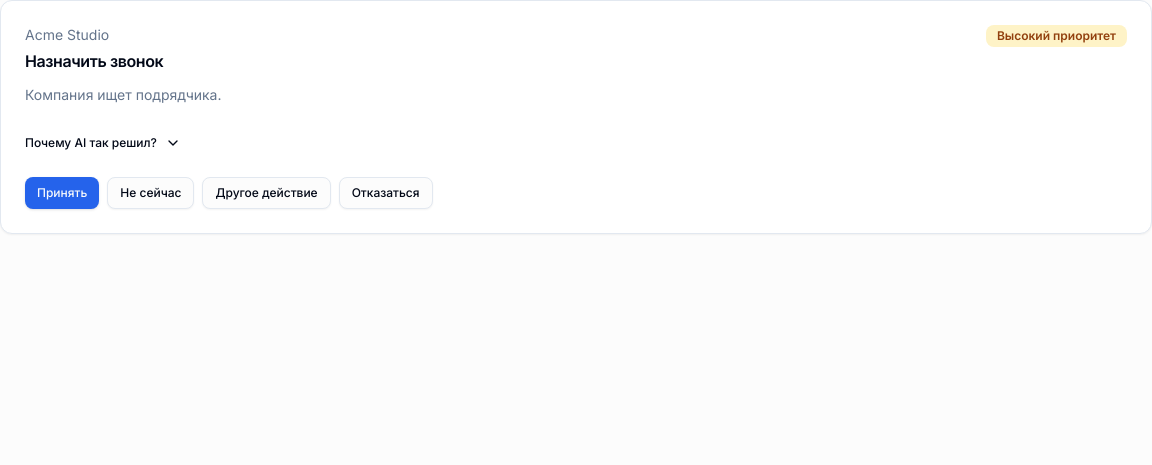
Test: NeedsDecisionCard › opens mutually exclusive action panels
Click the button "Не сейчас" at {"x": 151, "y": 193}, box [107,177,194,209]
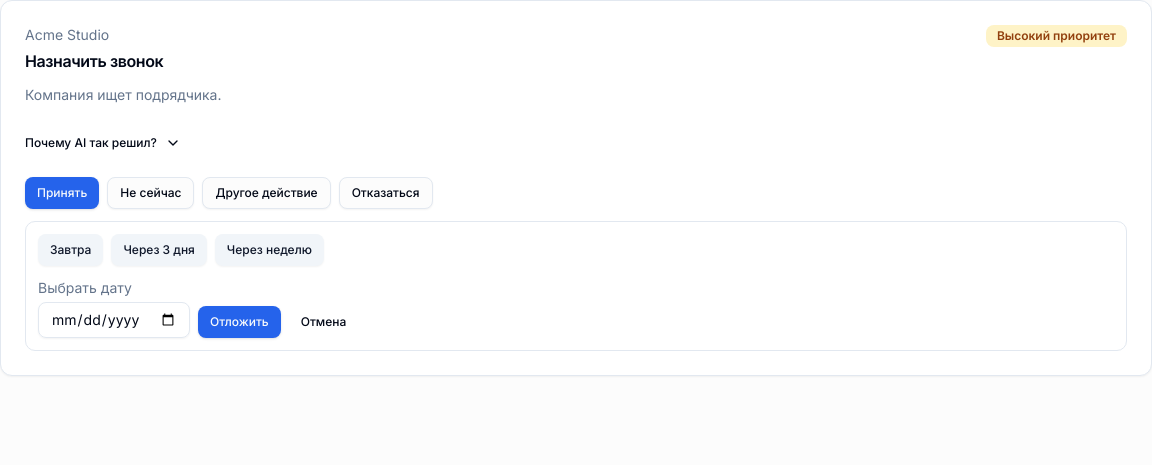
Expected: the button "Завтра" is shown, [38,234,103,266]
Click the button "Другое действие" at {"x": 267, "y": 193}, box [202,177,331,209]
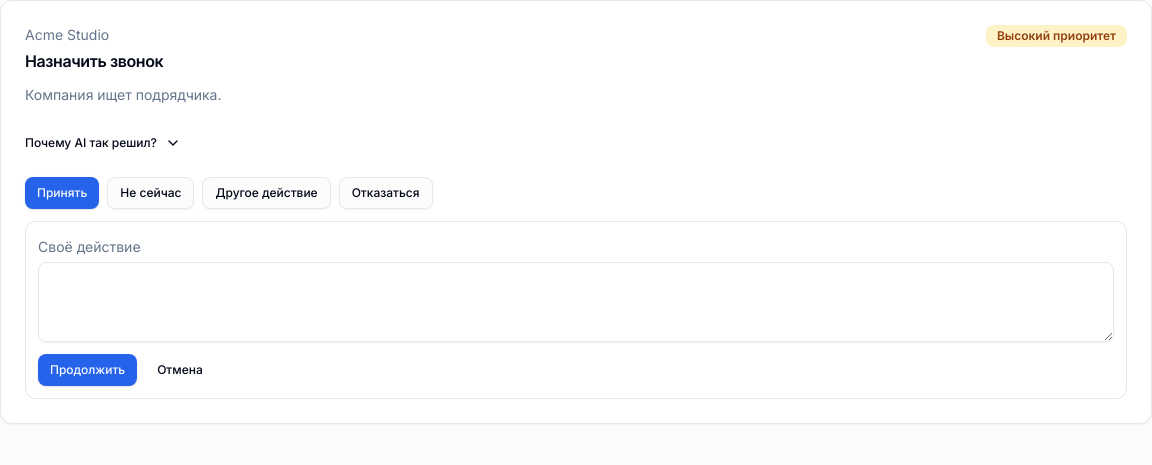
Expected: the text box labelled "Своё действие" is shown, [38,262,1114,342]
Expected: the button "Завтра" is gone
Click the button "Отказаться" at {"x": 386, "y": 193}, box [339,177,433,209]
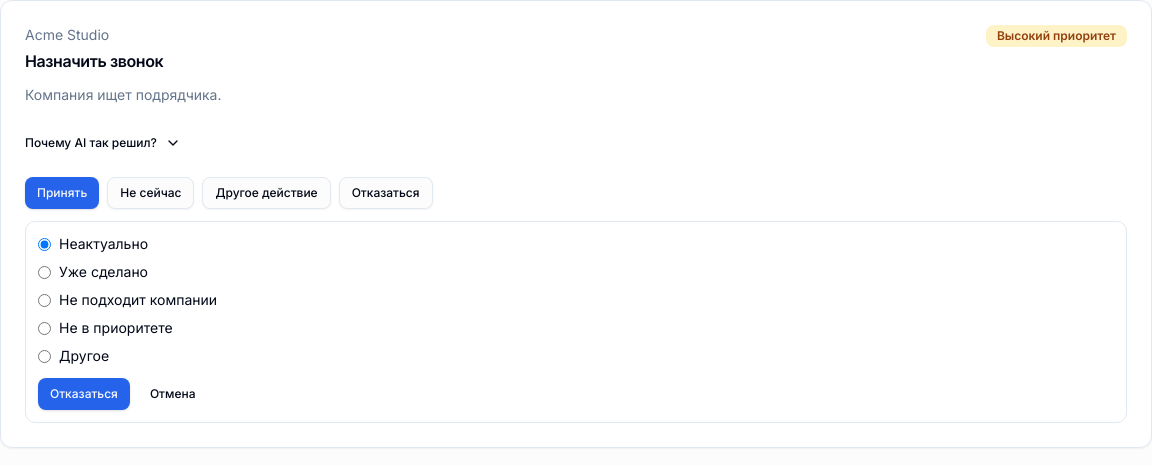
Expected: the radio button labelled "Неактуально" is shown, [38,238,51,250]
Expected: the label labelled "Своё действие" is gone
